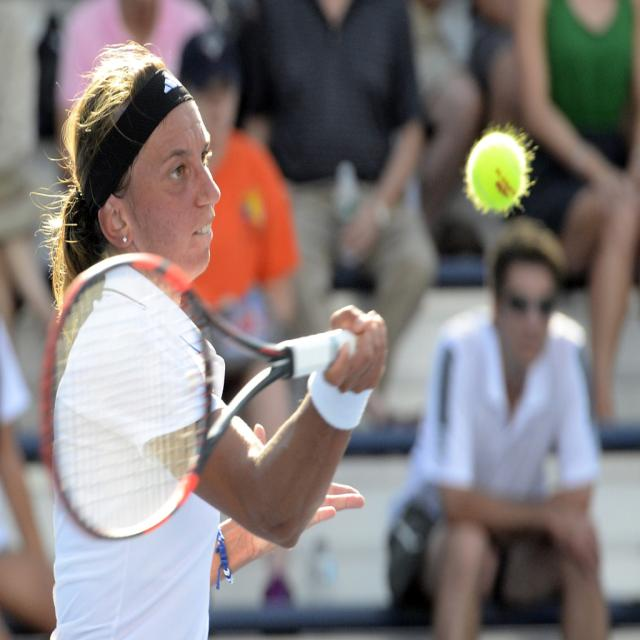Tennis ball: (460, 120, 538, 212)
